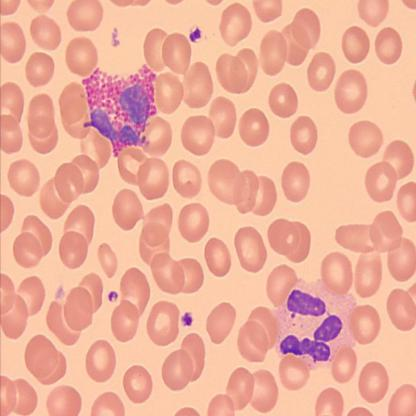Eosinophil: (84, 62, 163, 158)
